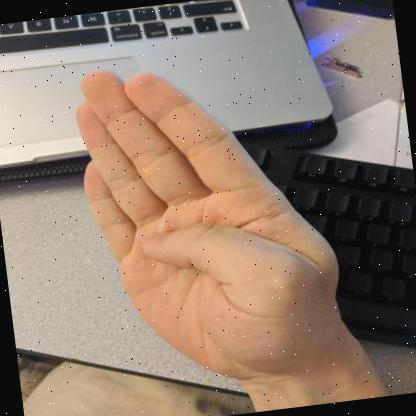B: (75, 69, 368, 390)
